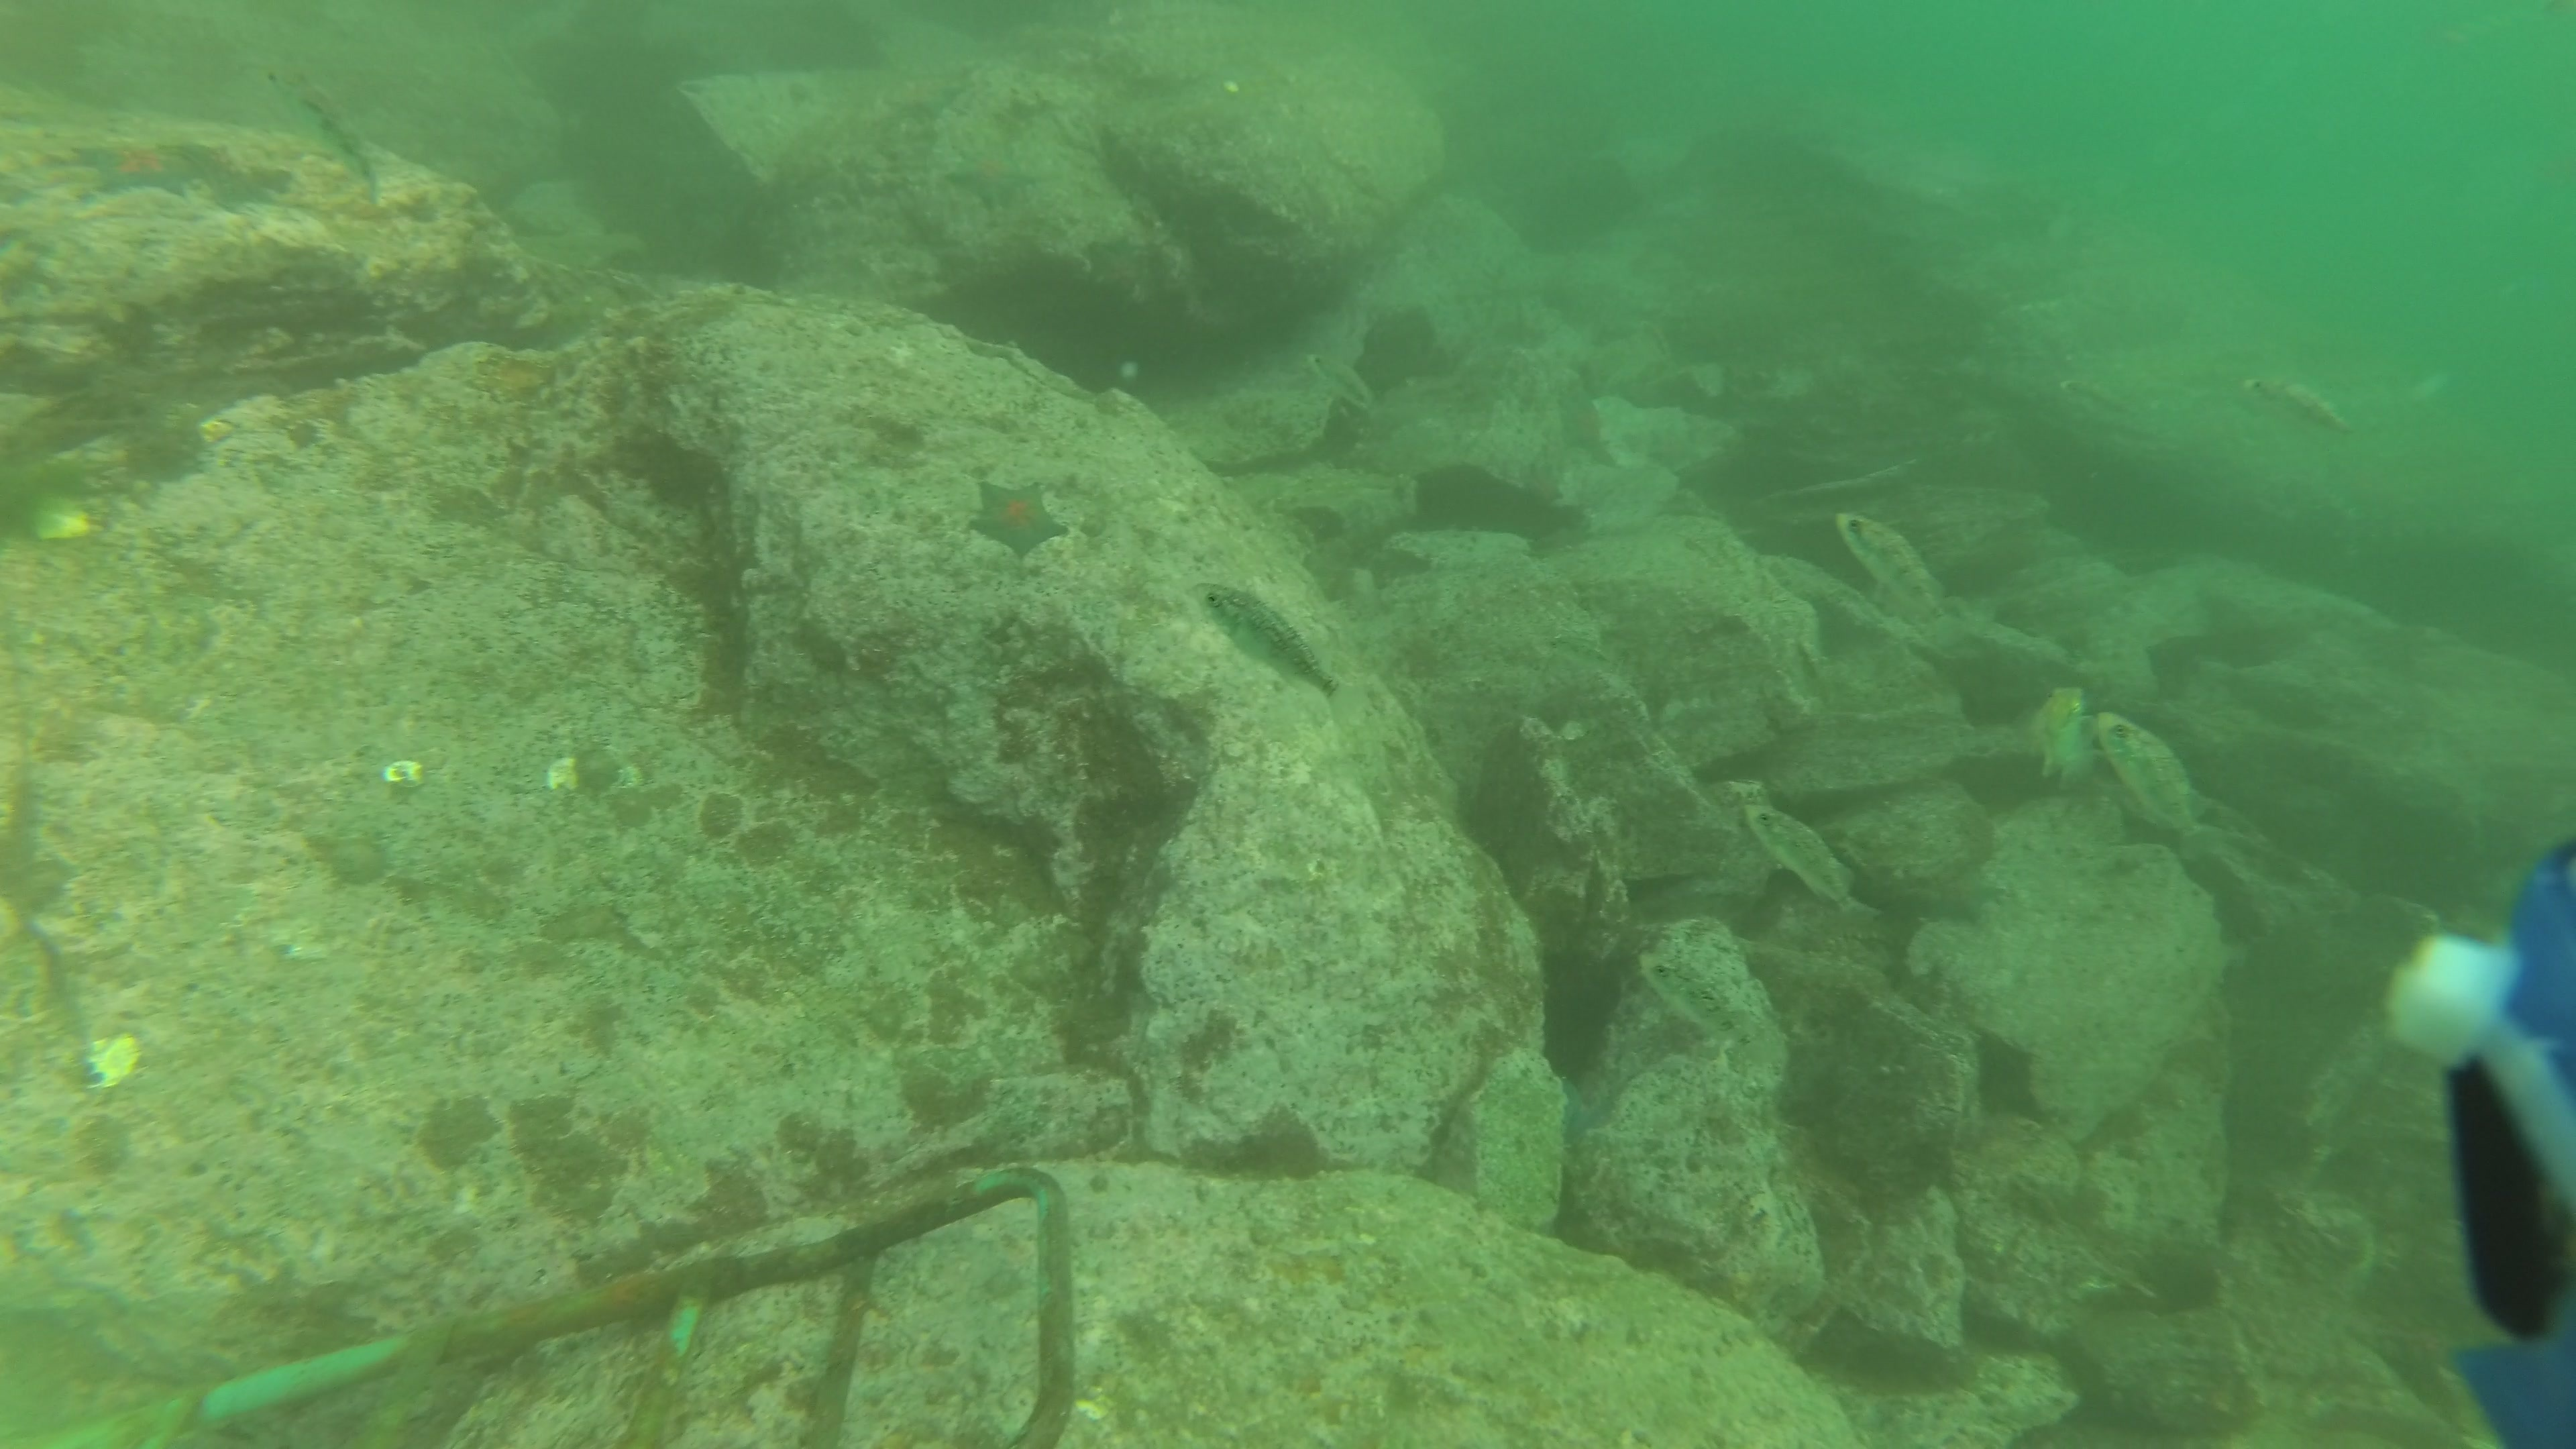starfish: (961, 469, 1077, 564), (62, 133, 211, 205)
